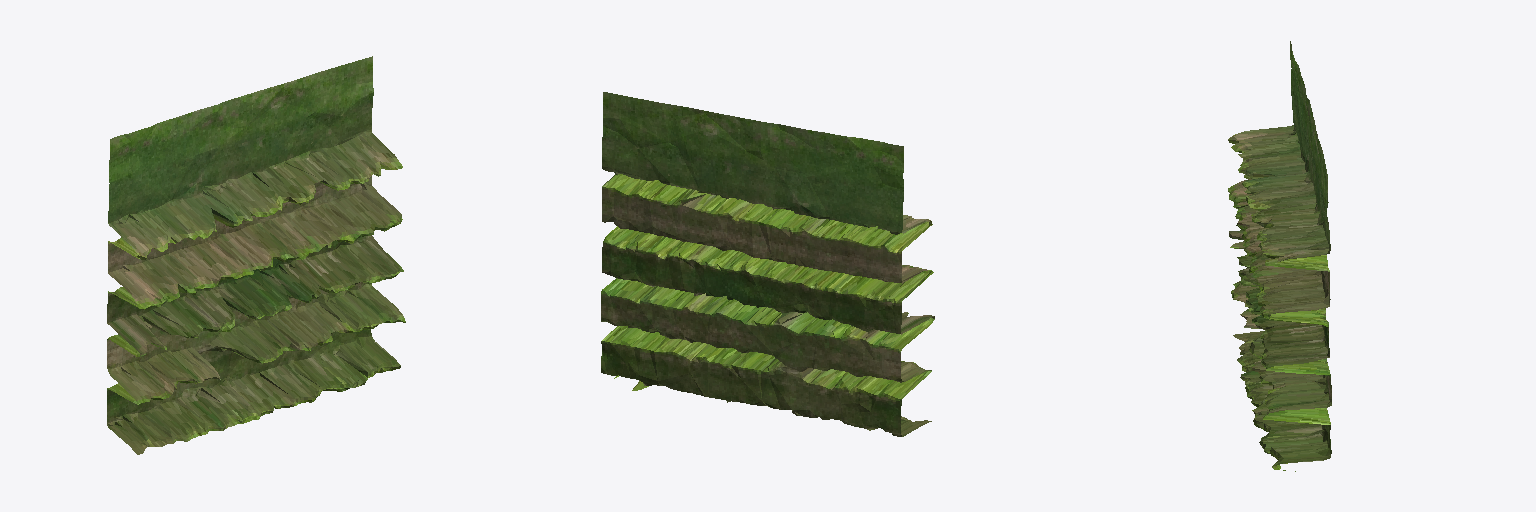
The picture shows the model from 3 angles: view 1: azimuth 30°, elevation 25°; view 2: azimuth 150°, elevation 25°; view 3: azimuth 270°, elevation 25°; orthographic projection.
Parts seen in each view (by area): view 1: grp1; view 2: grp1; view 3: grp1.
Part boxes in pixels (left/top/right/bottom): grp1: left=107, top=56, right=405, bottom=454; grp1: left=601, top=92, right=934, bottom=436; grp1: left=1228, top=41, right=1331, bottom=471.
Size of the model in its own units: 10 by 10 by 3.22.
1 materials, 1 textured.